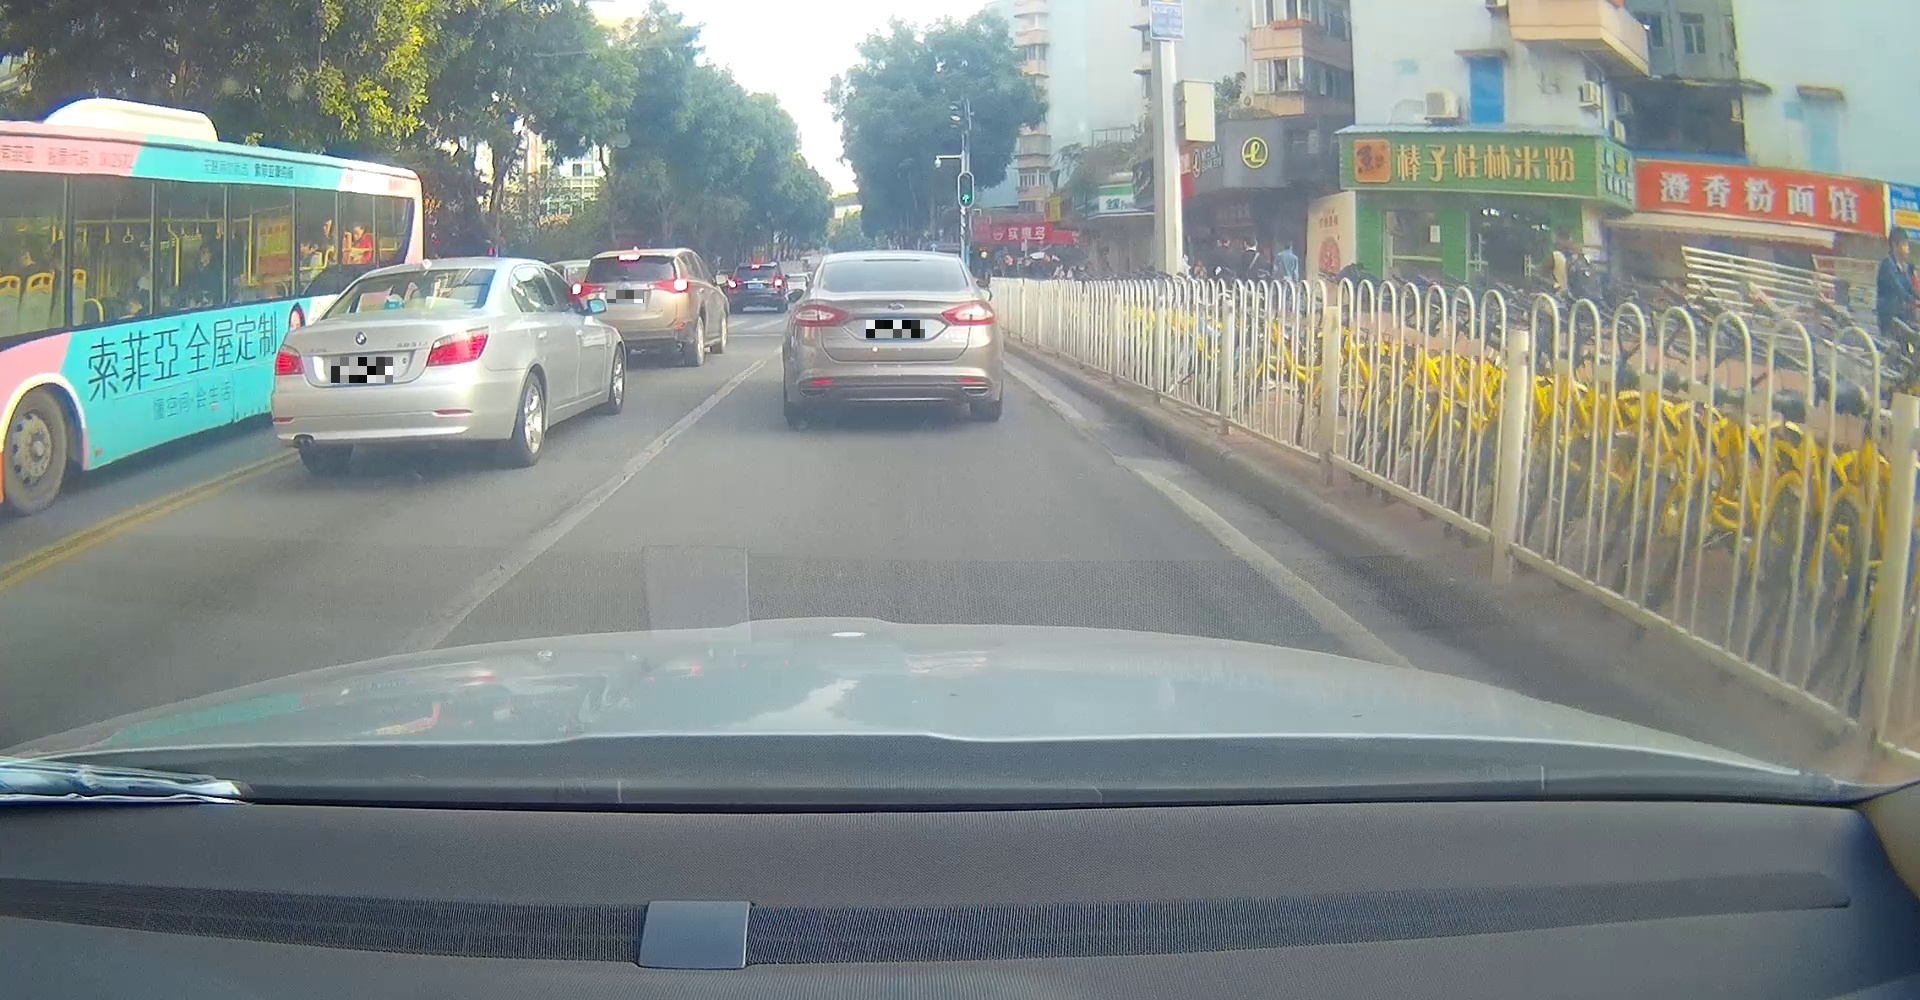L_light: (792, 305, 847, 326), (272, 343, 305, 376), (571, 282, 603, 298), (725, 279, 742, 292)
R_light: (425, 324, 491, 367), (942, 299, 996, 326), (648, 277, 690, 294), (772, 275, 783, 289), (750, 264, 761, 270)
T_light: (862, 258, 923, 261), (617, 253, 640, 261), (411, 269, 432, 275)
day-brake: (570, 250, 698, 368), (725, 261, 785, 312)
day-no: (269, 260, 499, 473), (783, 250, 1002, 423)
plate_1: (331, 357, 392, 383)
plate_2: (607, 291, 644, 303)
plate_3: (866, 320, 924, 338)
